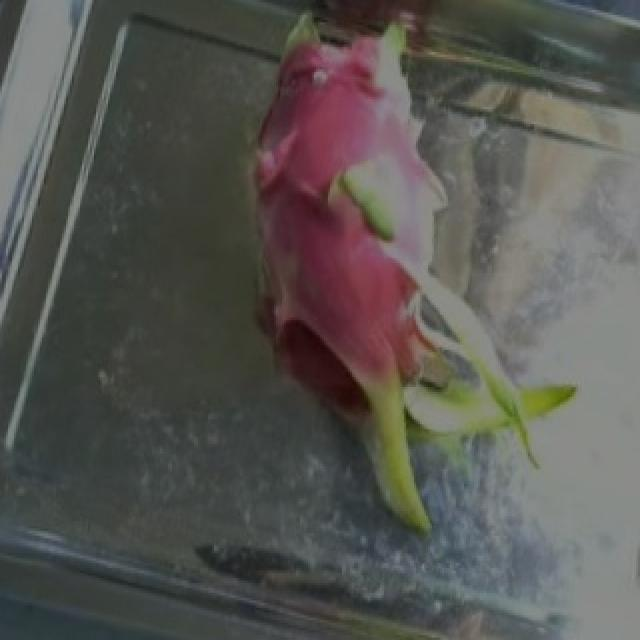fruit: (182, 107, 602, 546)
